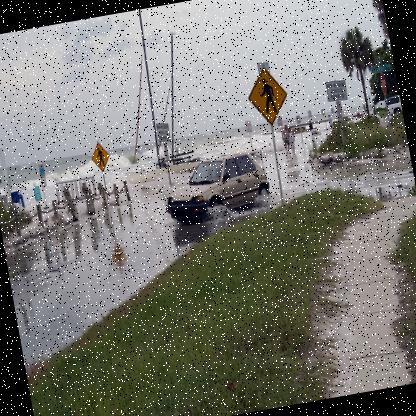Car: (154, 150, 272, 230)
